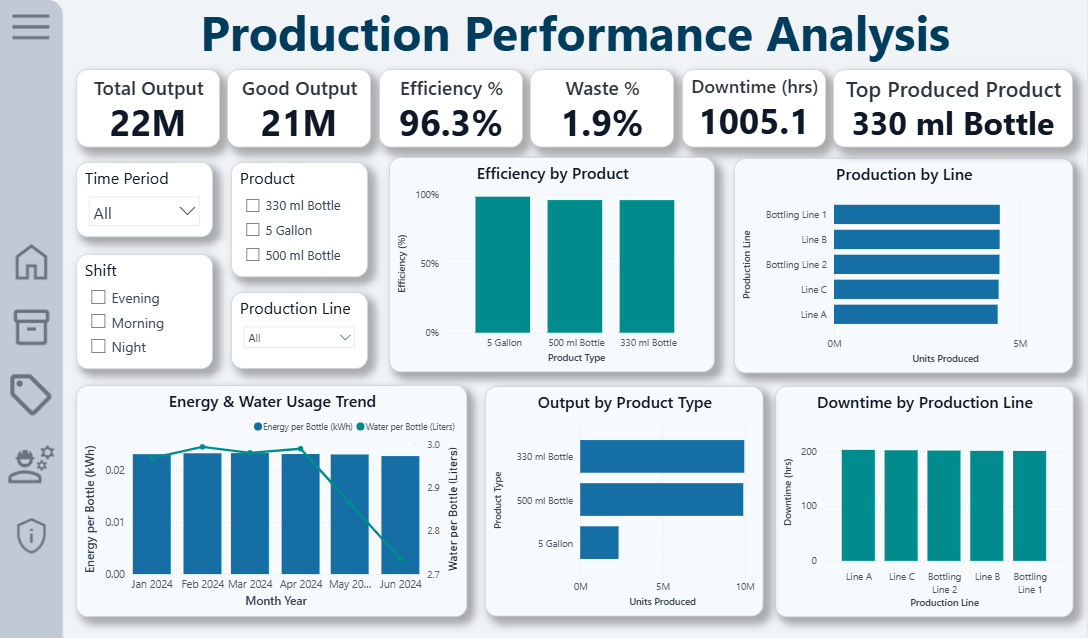

What the dashboard file says about the page in this screenshot:
{"tool":"powerbi","page":{"name":"Production Analysis","canvas":[1360,800],"ordinal":1},"visuals":[{"type":"shape","box":[0,0,80.6,800.3],"z":0,"group":"g1"},{"type":"card","title":"Total Output","fields":{"Values":["Measure Table.Total Production"]},"box":[96.5,87.1,180,97.5],"z":0},{"type":"group","id":"g1","title":"Group 1","box":[0,0,80,800],"z":1000},{"type":"actionButton","box":[0,378.6,80.6,63.3],"z":1000,"group":"g1"},{"type":"card","title":"Good Output","fields":{"Values":["Measure Table.Good Bottles"]},"box":[285.2,87.1,180,97.5],"z":2000},{"type":"actionButton","box":[0,295,80.6,67.1],"z":2000,"group":"g1"},{"type":"card","title":"Efficiency %","fields":{"Values":["Measure Table.Production Efficiency %"]},"box":[475.2,87.1,180,97.5],"z":3000},{"type":"actionButton","box":[0,545.8,80.6,70.9],"z":3000,"group":"g1"},{"type":"shape","box":[97.1,0,1245.7,80],"z":4000},{"type":"actionButton","box":[0,459.7,80.6,69.6],"z":4000,"group":"g1"},{"type":"card","title":"Waste %","fields":{"Values":["Measure Table.Waste Rate %"]},"box":[664,87.1,180,97.5],"z":5000},{"type":"actionButton","box":[0,637,80.6,67.1],"z":5000,"group":"g1"},{"type":"actionButton","box":[0,0,80.6,69.6],"z":6000,"group":"g1"},{"type":"card","title":"Downtime (hrs)","fields":{"Values":["Measure Table.Total Downtime (Hour)"]},"box":[854,87.1,180,97.5],"z":6000},{"type":"clusteredBarChart","title":"Production by Line","fields":{"Y":["Measure Table.Total Production"],"Category":["Rawda_production_sales.Production Line"]},"box":[919,198.4,423.8,268.8],"z":7000},{"type":"clusteredColumnChart","title":"Downtime by Production Line","fields":{"Category":["Rawda_production_sales.Production Line"],"Y":["Measure Table.Total Downtime (Hour)"]},"box":[970,484.3,372.9,288.6],"z":8000},{"type":"clusteredBarChart","title":"Output by Product Type","fields":{"Category":["Rawda_production_sales.Product Type"],"Y":["Measure Table.Total Production"]},"box":[607.4,484.2,347.8,288.1],"z":9000},{"type":"clusteredColumnChart","title":"Efficiency by Product","fields":{"Category":["Rawda_production_sales.Product Type"],"Y":["Measure Table.Production Efficiency %"]},"box":[488,197.7,407.5,268.7],"z":10000},{"type":"slicer","title":"Shift","fields":{"Values":["Rawda_production_sales.Production Shift"]},"box":[96.5,318.4,171.2,143.8],"z":11000},{"type":"slicer","title":"Production Line","fields":{"Values":["Rawda_production_sales.Production Line"]},"box":[290.2,365.9,171.2,96.2],"z":12000},{"type":"slicer","title":"Time Period","fields":{"Values":["Rawda_production_sales.Month Year"]},"box":[96.5,203.4,171.2,93.8],"z":13000},{"type":"slicer","title":"Product","fields":{"Values":["Rawda_production_sales.Product Type"]},"box":[290.2,203.4,171.2,143.8],"z":14000},{"type":"lineClusteredColumnComboChart","title":"Energy & Water Usage Trend","fields":{"Category":["Rawda_production_sales.Date Hierarchy.Month Year"],"Y":["Measure Table.Energy per Bottle"],"Y2":["Measure Table.Water per Bottle"]},"box":[95.7,482.7,489.2,290],"z":15000},{"type":"card","title":"Top Produced Product","fields":{"Values":["Min(Rawda_production_sales.Product Type)"]},"box":[1042.7,87.1,300,97.5],"z":16000}]}

Visuals, with their boxes on the page's 1360x800 design canvas (x1, y1, x2, y2). These are canvas units, not pixel positions in the 1088x638 screenshot, which may show the page scaled, cropped or inside an application window:
shape: (x1=0, y1=0, x2=81, y2=800)
"Total Output" card: (x1=96, y1=87, x2=276, y2=185)
"Group 1" group: (x1=0, y1=0, x2=80, y2=800)
actionButton: (x1=0, y1=379, x2=81, y2=442)
"Good Output" card: (x1=285, y1=87, x2=465, y2=185)
actionButton: (x1=0, y1=295, x2=81, y2=362)
"Efficiency %" card: (x1=475, y1=87, x2=655, y2=185)
actionButton: (x1=0, y1=546, x2=81, y2=617)
shape: (x1=97, y1=0, x2=1343, y2=80)
actionButton: (x1=0, y1=460, x2=81, y2=529)
"Waste %" card: (x1=664, y1=87, x2=844, y2=185)
actionButton: (x1=0, y1=637, x2=81, y2=704)
actionButton: (x1=0, y1=0, x2=81, y2=70)
"Downtime (hrs)" card: (x1=854, y1=87, x2=1034, y2=185)
"Production by Line" clusteredBarChart: (x1=919, y1=198, x2=1343, y2=467)
"Downtime by Production Line" clusteredColumnChart: (x1=970, y1=484, x2=1343, y2=773)
"Output by Product Type" clusteredBarChart: (x1=607, y1=484, x2=955, y2=772)
"Efficiency by Product" clusteredColumnChart: (x1=488, y1=198, x2=896, y2=466)
"Shift" slicer: (x1=96, y1=318, x2=268, y2=462)
"Production Line" slicer: (x1=290, y1=366, x2=461, y2=462)
"Time Period" slicer: (x1=96, y1=203, x2=268, y2=297)
"Product" slicer: (x1=290, y1=203, x2=461, y2=347)
"Energy & Water Usage Trend" lineClusteredColumnComboChart: (x1=96, y1=483, x2=585, y2=773)
"Top Produced Product" card: (x1=1043, y1=87, x2=1343, y2=185)
